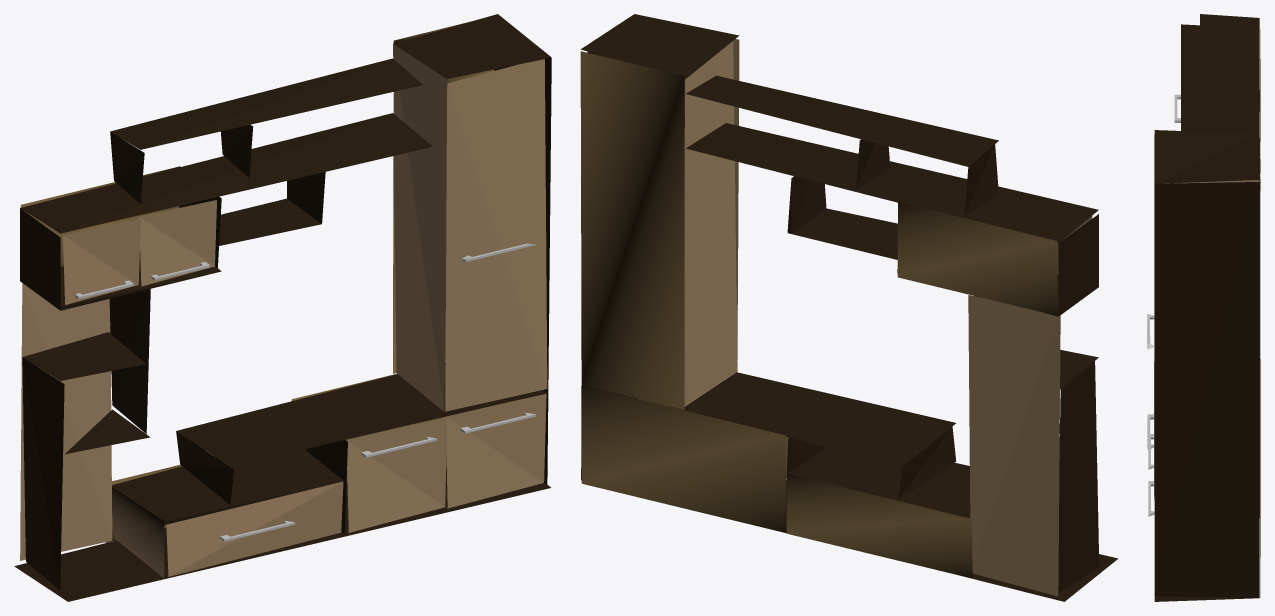
The model's file is closet.lod2.glb.
3 renders of one model, left to right at view 1: azimuth 30°, elevation 25°; view 2: azimuth 150°, elevation 25°; view 3: azimuth 270°, elevation 25°, orthographic. The views are drawn at different scales.
Parts seen in each view (by area): view 1: Corpus_Furniture1Wood1_0; view 2: Corpus_Furniture1Wood1_0; view 3: Corpus_Furniture1Wood1_0.
Boxes of the visible parts, bbox=[...] form: Corpus_Furniture1Wood1_0: bbox=[14, 14, 551, 601]; Corpus_Furniture1Wood1_0: bbox=[580, 14, 1118, 601]; Corpus_Furniture1Wood1_0: bbox=[1147, 14, 1260, 601].
Bounding box in the file's own units: 2.55 × 2.19 × 0.5301.
